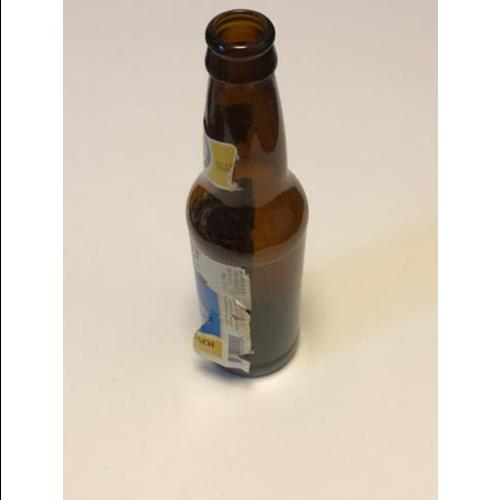glass: (192, 11, 303, 378)
